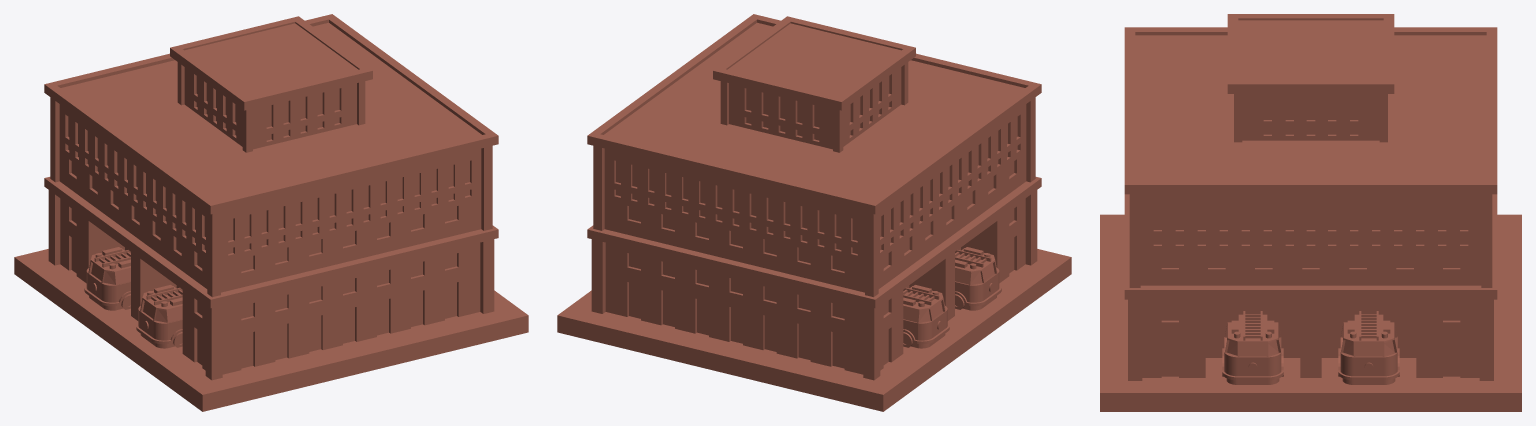
Rendered from fire-station.fbx.
3 renders of one model, left to right at view 1: azimuth 30°, elevation 25°; view 2: azimuth 150°, elevation 25°; view 3: azimuth 270°, elevation 25°, orthographic. The views are drawn at different scales.
Parts seen in each view (by area): view 1: Fire_Station; view 2: Fire_Station; view 3: Fire_Station.
Boxes of the visible parts, x1,y1,x2,y2 form: Fire_Station: (14,14,528,411); Fire_Station: (557,14,1071,411); Fire_Station: (1100,14,1521,411).
Size of the model in its own units: 6000 by 4293 by 6000.
